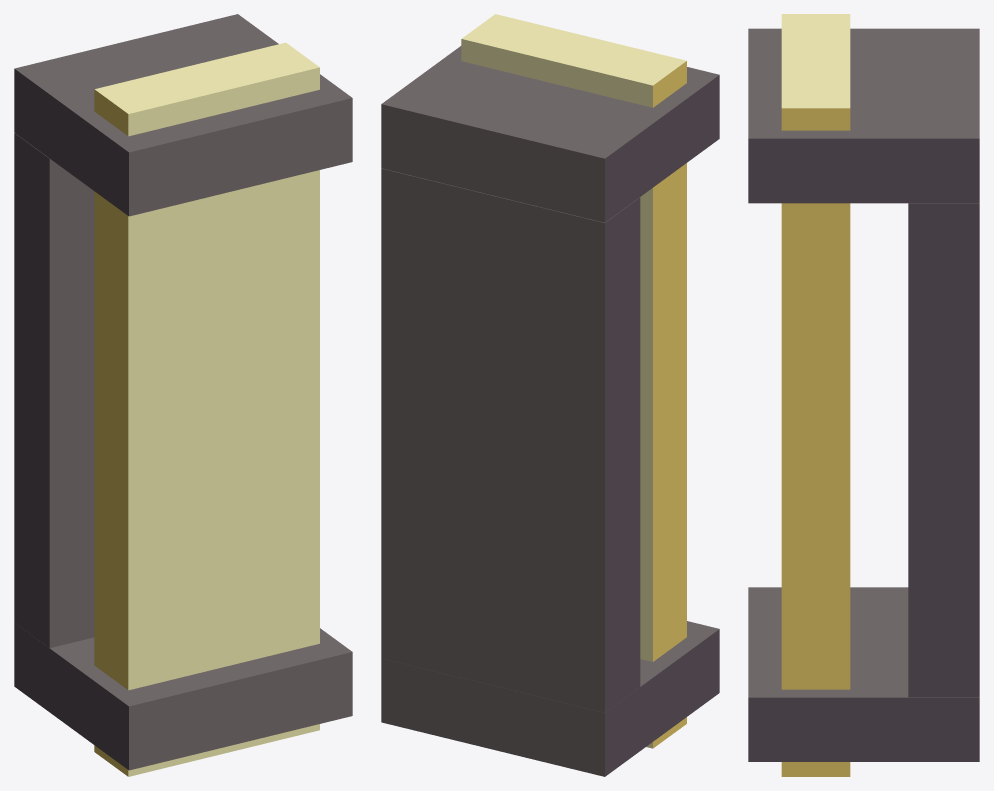
The model's file is Modern Wall Lamp.fbx.
The picture shows the model from 3 angles, left to right: view 1: azimuth 30°, elevation 25°; view 2: azimuth 150°, elevation 25°; view 3: azimuth 270°, elevation 25°; orthographic projection.
Visible parts, largest first — view 1: Modern Wall Lamp; view 2: Modern Wall Lamp; view 3: Modern Wall Lamp.
Part boxes in pixels (x1,y1,x2,y2): Modern Wall Lamp: (14,14,352,776); Modern Wall Lamp: (381,14,719,776); Modern Wall Lamp: (748,14,979,776).
Bounding box in the file's own units: 20.88 × 59.16 × 18.56.
